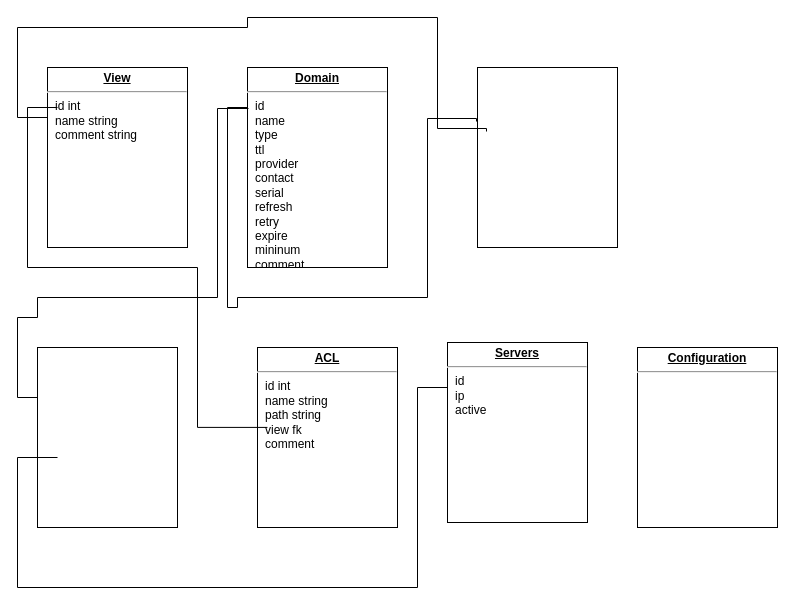
This 795x606 diagram has some shape labels left out. The box of each missing label's shape, as (x1, y1, x2, y2) in pixels:
NSRecord id domain fk name ttl active nsa manytomany: (36, 346, 178, 528)
Record id domain fk view fk name type content ttl prio active comment: (476, 66, 618, 248)
